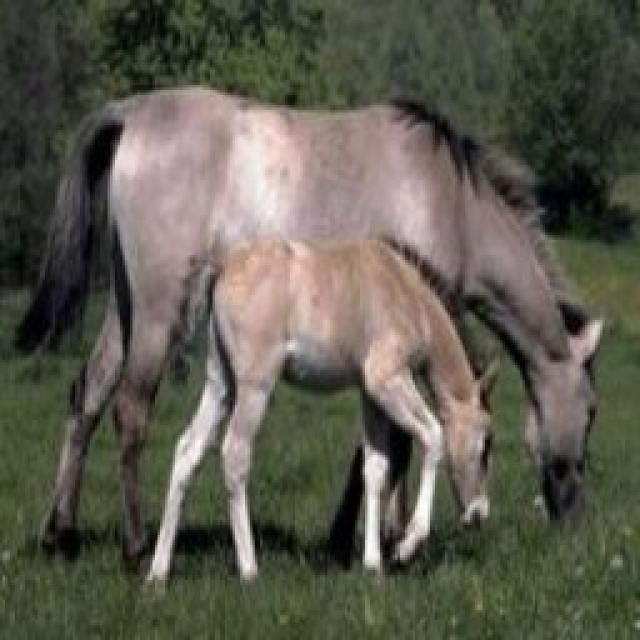Horse: (52, 82, 609, 582), (137, 235, 498, 587)
